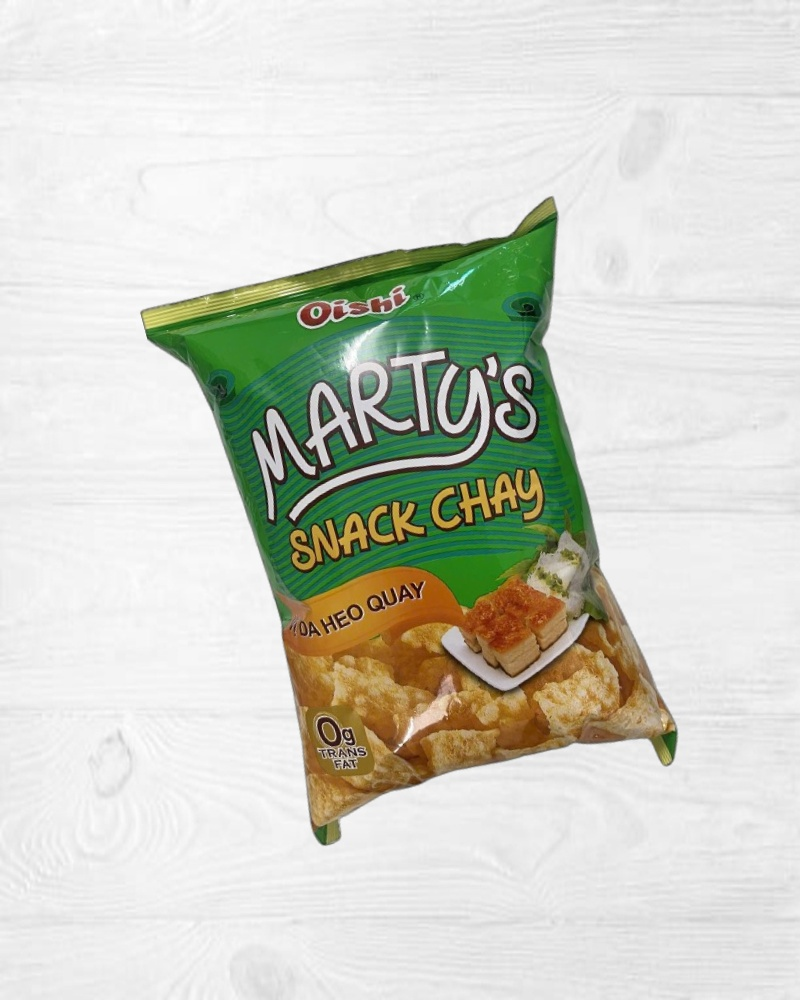Snack chay: (140, 196, 704, 867)
